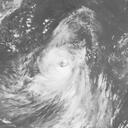cyclone: (39, 48, 74, 78)
